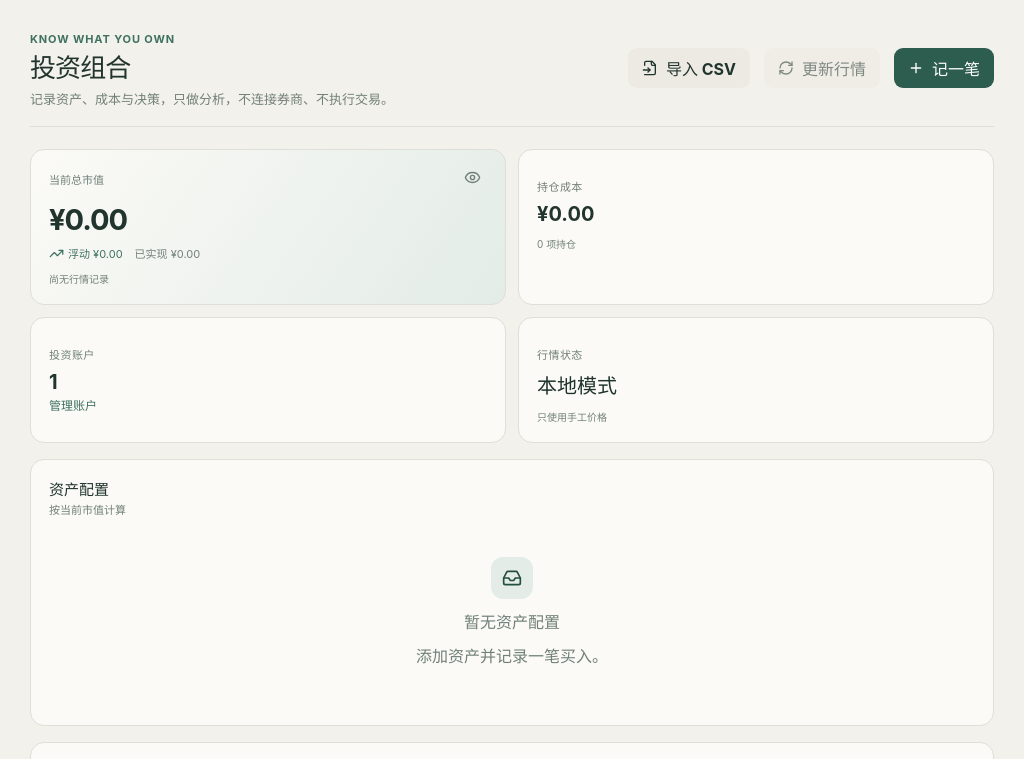
Test: CSV 文件选择失败留在弹窗内且可再次选择
The image size is (1024, 759).
Step 1. Click the button "导入 CSV" → (689, 68), box [628,48,750,88]
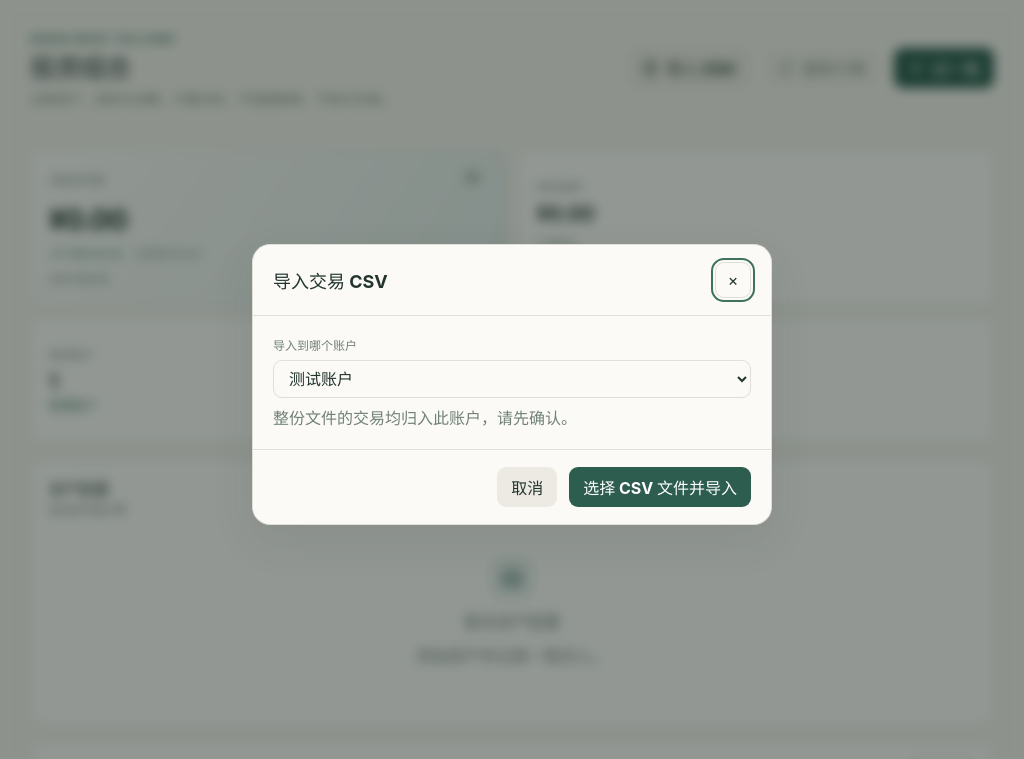
Step 2. Click the button "选择 CSV 文件并导入" → (660, 486), box [569,466,751,506]
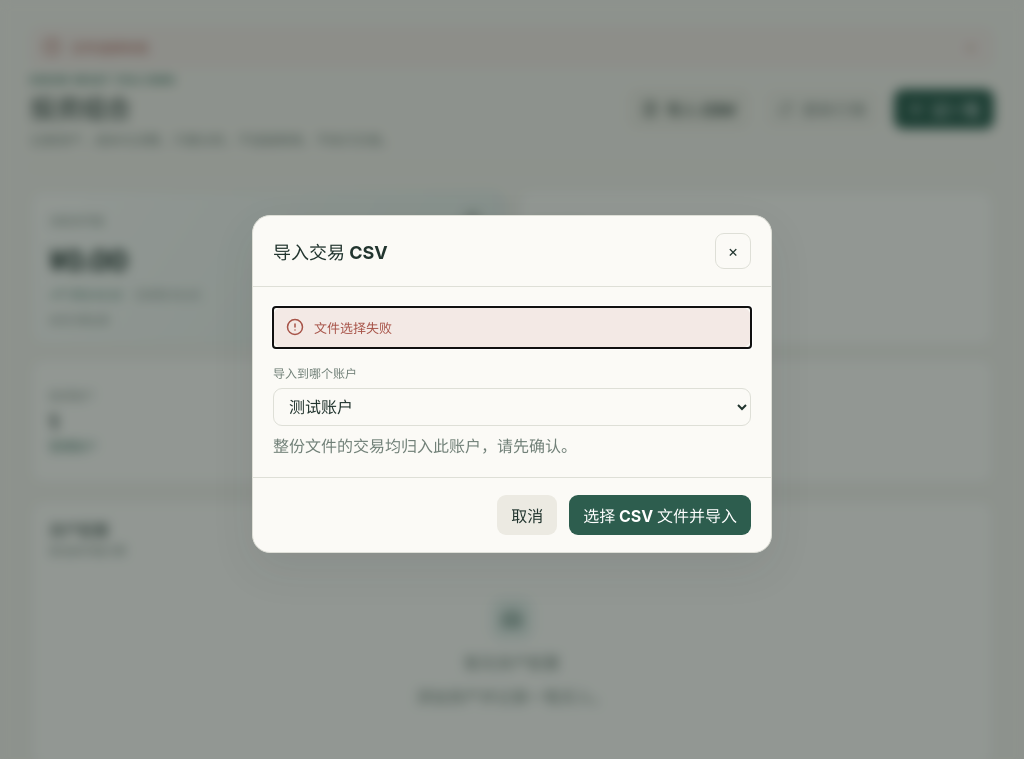
Expected: the dialog is shown, [252,215,772,553]
Expected: the button "选择 CSV 文件并导入" is enabled, [569,495,751,535]
Expected: the message "文件选择失败" is shown, [273,307,751,348]
